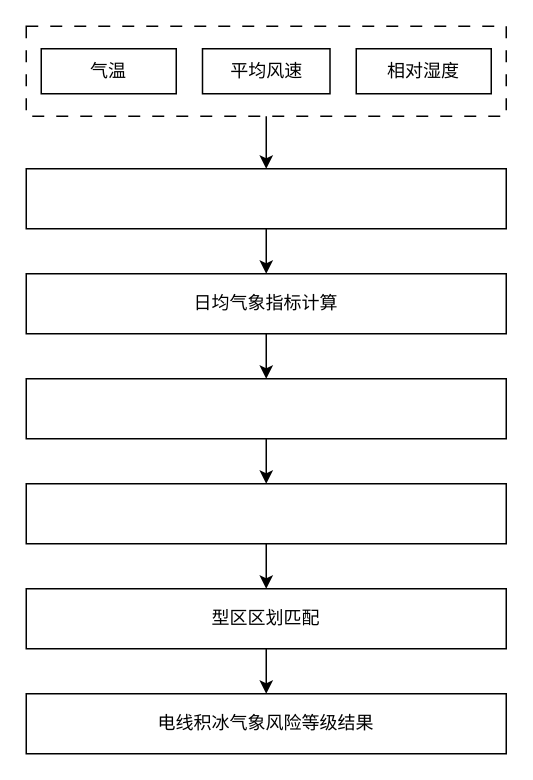
Image size: 533x780. Some labels were removed from this diagram. The centre of each missing label's shape, as x and y in pixels:
"各位置持续天数统计" goes at (x=265, y=513).
"雾凇、雨凇及混合型区气象条件计算" goes at (x=265, y=408).
"高分辨率DEM精细化订正" goes at (x=265, y=198).
